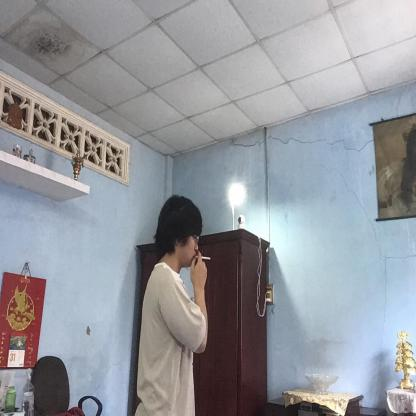cigarette: (202, 254, 212, 262)
person: (135, 196, 213, 416)
